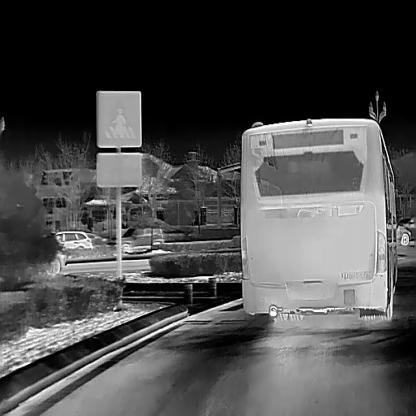bus: (239, 115, 398, 322)
car: (116, 223, 164, 252), (42, 228, 93, 255), (392, 221, 410, 245)
